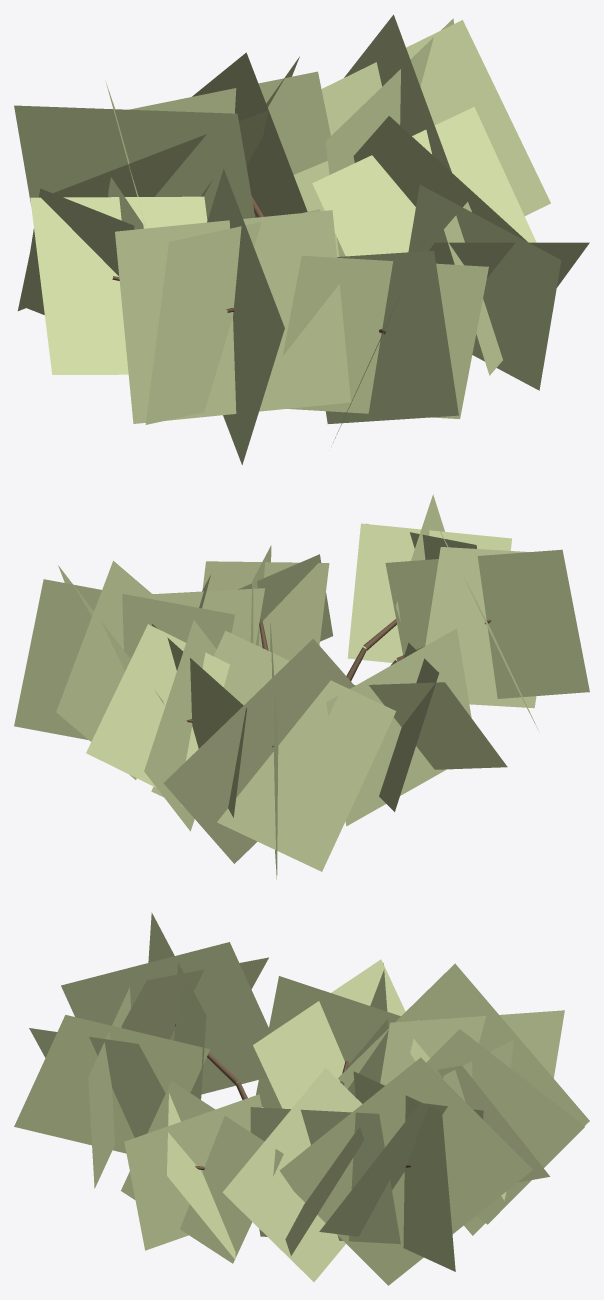
The model's file is spiraea.glb.
3 views of the same model, one above another, from view 1: azimuth 30°, elevation 25°; view 2: azimuth 150°, elevation 25°; view 3: azimuth 270°, elevation 25° (orthographic). The views are drawn at different scales.
Parts seen in each view (by area): view 1: Foliage; view 2: Foliage, spiraea; view 3: Foliage.
Boxes of the visible parts, bbox=[...] form: Foliage: bbox=[14, 14, 589, 464]; Foliage: bbox=[14, 494, 589, 879]; spiraea: bbox=[186, 619, 491, 747]; Foliage: bbox=[14, 912, 589, 1285].
Size of the model in its own units: 2.54 by 1.44 by 2.99.
